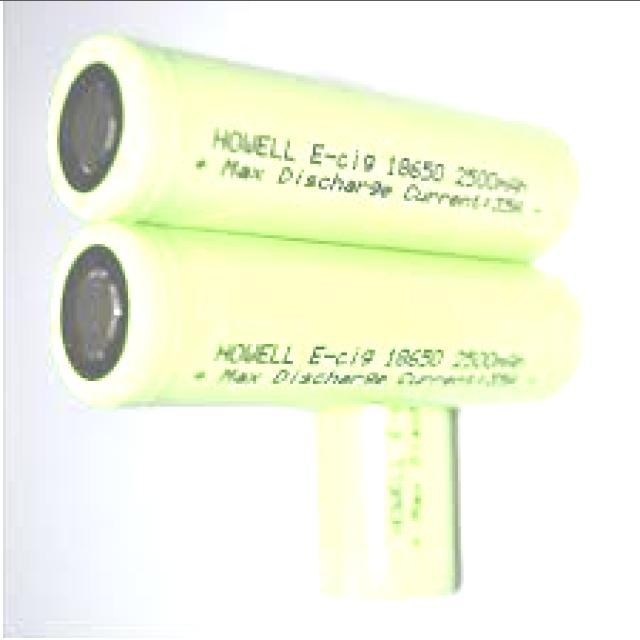AA: (42, 30, 588, 262), (46, 219, 592, 411)
